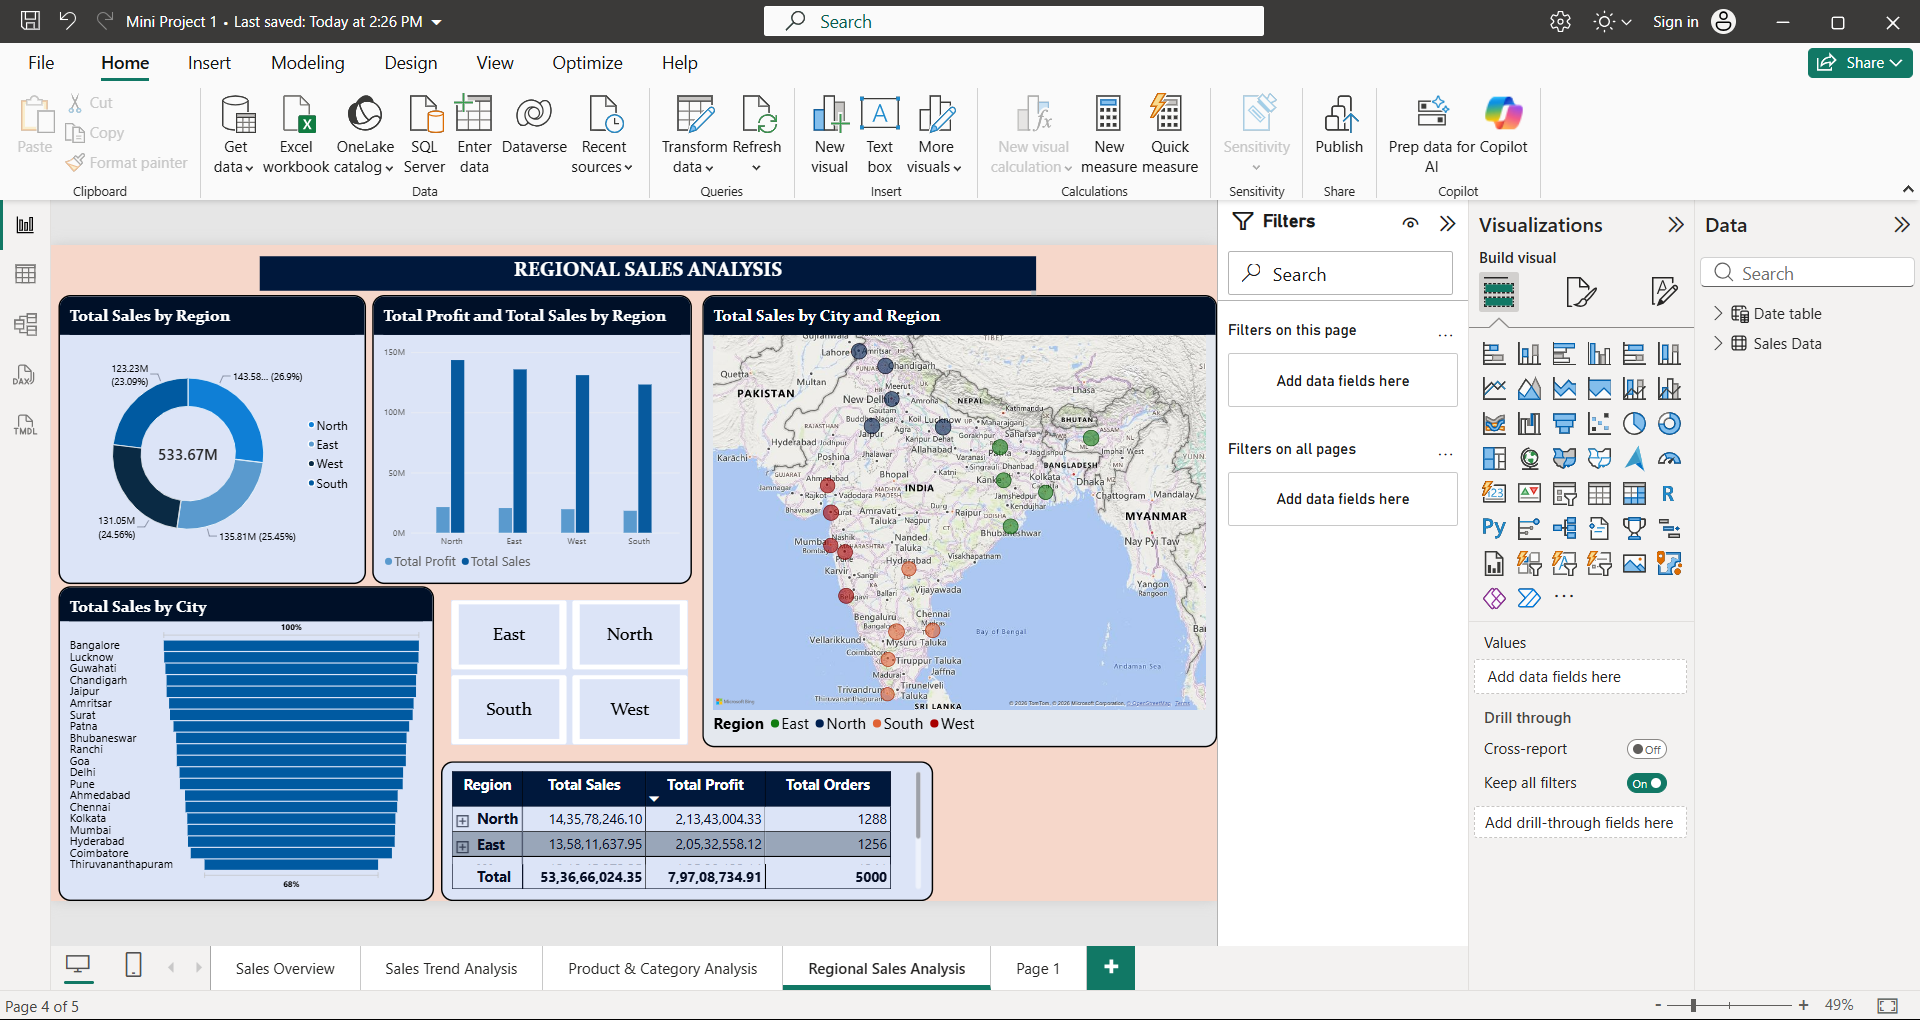

The dashboard page shown, as its layout file describes it:
{"tool":"powerbi","page":{"name":"Regional Sales Analysis","canvas":[1920,1080],"ordinal":3},"visuals":[{"type":"donutChart","fields":{"Category":["Sales Data.Region"],"Y":["Sales Data.Total Sales"]},"box":[12,82,506,476],"z":0},{"type":"clusteredColumnChart","fields":{"Category":["Sales Data.Region"],"Y":["Sales Data.Total Profit","Sales Data.Total Sales"]},"box":[530,82,526,476],"z":1},{"type":"funnel","fields":{"Category":["Sales Data.City"],"Y":["Sales Data.Total Sales"]},"box":[12,562,618,518],"z":2},{"type":"map","fields":{"Category":["Sales Data.City"],"Series":["Sales Data.Region"],"Size":["Sales Data.Total Sales"]},"box":[1072,82,759.5,745.1],"z":3},{"type":"pivotTable","fields":{"Rows":["Sales Data.Region","Sales Data.City"],"Values":["Sales Data.Total Sales","Sales Data.Total Profit","Sales Data.Total Orders"]},"box":[642,850,810,230],"z":4},{"type":"advancedSlicerVisual","fields":{"Values":["Sales Data.Region"]},"box":[658,584,390,238],"z":5},{"type":"textbox","title":"REGIONAL SALES ANALYSIS","box":[344,18,1278,64],"z":6}]}

Visuals, with their boxes on the page's 1920x1080 design canvas (x1, y1, x2, y2). These are canvas units, not pixel positions in the 1920x1020 screenshot, which may show the page scaled, cropped or inside an application window:
donutChart - Sales Data.Region x Sales Data.Total Sales: 12,82,518,558
clusteredColumnChart - Sales Data.Region x Sales Data.Total Profit: 530,82,1056,558
funnel - Sales Data.City x Sales Data.Total Sales: 12,562,630,1080
map - Sales Data.City x Sales Data.Region: 1072,82,1832,827
pivotTable - Sales Data.Region x Sales Data.City: 642,850,1452,1080
advancedSlicerVisual - Sales Data.Region: 658,584,1048,822
"REGIONAL SALES ANALYSIS" textbox: 344,18,1622,82
